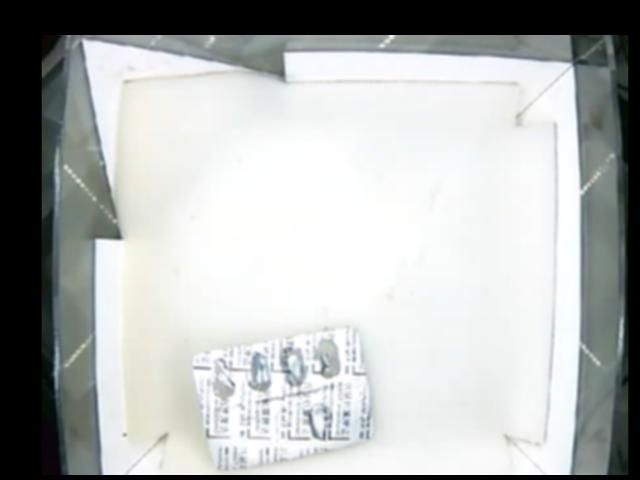Medicine: (193, 327, 375, 471)
